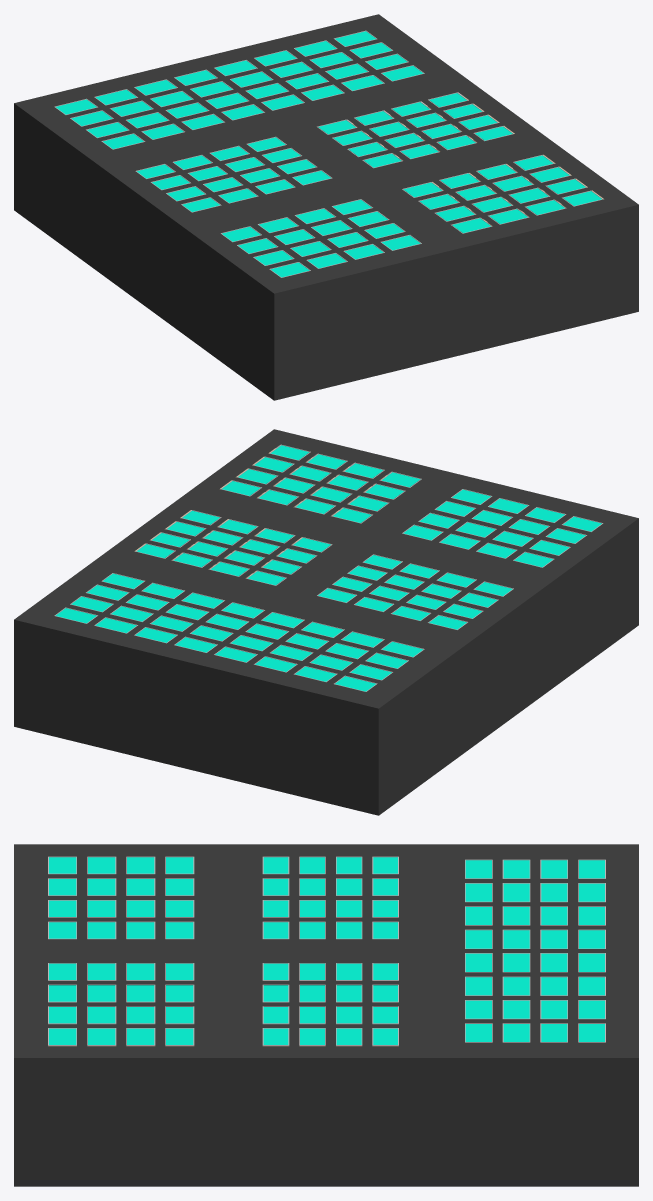
Rendered from Building.fbx.
3 views of the same model, one above another, from view 1: azimuth 30°, elevation 25°; view 2: azimuth 150°, elevation 25°; view 3: azimuth 270°, elevation 25° (orthographic). The views are drawn at different scales.
Visible parts, largest first — view 1: Layer, Roof_1, Roof_3, Roof_2; view 2: Layer, Roof_1, Roof_3, Roof_2; view 3: Layer, Roof_1, Roof_3, Roof_2.
Part boxes in pixels (x1=…): Layer: x1=14, y1=14, x2=638, y2=400; Roof_1: x1=54, y1=30, x2=424, y2=149; Roof_3: x1=317, y1=92, x2=603, y2=233; Roof_2: x1=135, y1=136, x2=421, y2=277; Layer: x1=14, y1=429, x2=638, y2=815; Roof_1: x1=54, y1=573, x2=424, y2=691; Roof_3: x1=134, y1=444, x2=421, y2=585; Roof_2: x1=317, y1=489, x2=603, y2=630; Layer: x1=14, y1=844, x2=638, y2=1186; Roof_1: x1=465, y1=859, x2=605, y2=1042; Roof_3: x1=48, y1=963, x2=398, y2=1046; Roof_2: x1=48, y1=856, x2=398, y2=939.
Bounding box in the file's own units: 2513 × 706 × 3106.
